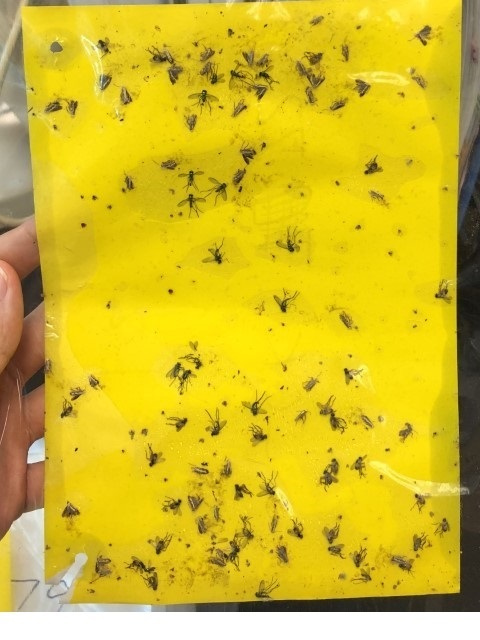DBM: (92, 552, 113, 580), (226, 165, 250, 188), (274, 545, 297, 569), (298, 372, 322, 395), (335, 307, 355, 333), (115, 84, 136, 108), (55, 503, 83, 521), (238, 142, 257, 166), (292, 405, 311, 429), (63, 97, 82, 121), (352, 76, 372, 98), (152, 158, 180, 173), (182, 114, 203, 134), (67, 384, 89, 403), (193, 515, 209, 538), (360, 413, 378, 433), (229, 102, 250, 119), (198, 59, 216, 78), (43, 100, 63, 117), (207, 555, 228, 571), (123, 170, 136, 195), (86, 374, 104, 392), (306, 72, 326, 88), (97, 72, 112, 93), (267, 514, 281, 536), (42, 356, 56, 378), (198, 45, 215, 63), (252, 83, 268, 102), (187, 493, 203, 512), (327, 98, 348, 112), (221, 458, 235, 478), (193, 462, 211, 477), (388, 552, 407, 566), (242, 47, 256, 66), (256, 53, 273, 68), (168, 66, 181, 84), (211, 504, 221, 524)
Other: (199, 235, 230, 268), (200, 175, 231, 207), (187, 87, 220, 117), (272, 224, 305, 254), (239, 389, 271, 419), (177, 191, 209, 220), (272, 287, 302, 316), (242, 422, 272, 449), (250, 576, 283, 600), (232, 514, 256, 547), (145, 531, 176, 556), (177, 166, 205, 193), (409, 22, 436, 49), (204, 408, 228, 437), (142, 442, 166, 470), (256, 468, 279, 497), (144, 42, 174, 64), (326, 410, 350, 437), (229, 479, 256, 503), (221, 543, 242, 573), (317, 468, 342, 493), (407, 528, 431, 554), (176, 368, 199, 395), (58, 396, 81, 422), (434, 279, 454, 308), (431, 514, 453, 540), (285, 516, 307, 542), (361, 154, 385, 177), (161, 494, 184, 518), (347, 544, 368, 570), (124, 554, 151, 574), (162, 413, 189, 433), (342, 365, 365, 388), (350, 452, 369, 479), (142, 572, 163, 596), (91, 35, 112, 58), (165, 359, 181, 389), (396, 420, 416, 443), (410, 491, 430, 514), (321, 521, 340, 544), (317, 395, 337, 416), (322, 456, 342, 476), (398, 559, 419, 577), (207, 70, 228, 88), (352, 567, 376, 582), (326, 543, 347, 560), (340, 43, 352, 64)
